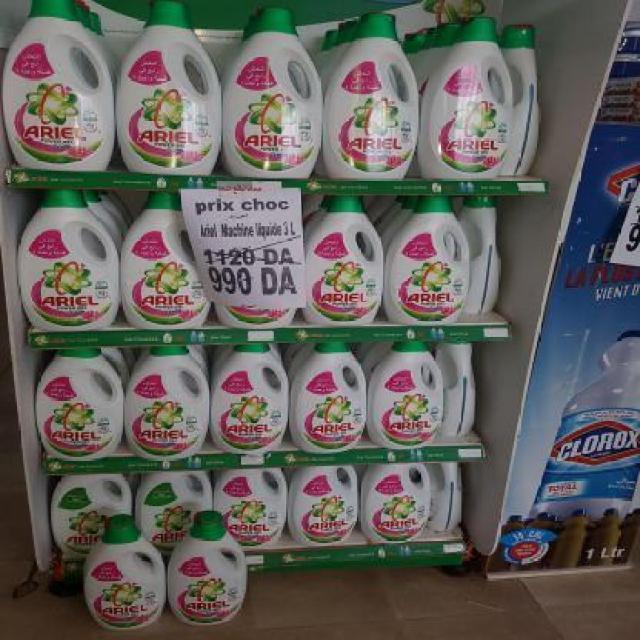Detergent: (119, 0, 225, 174), (226, 6, 323, 178), (322, 12, 422, 176), (417, 12, 517, 176), (13, 188, 118, 330), (117, 188, 203, 330), (296, 191, 387, 324), (37, 339, 124, 462), (78, 516, 174, 627), (390, 191, 470, 324), (164, 512, 250, 623), (125, 346, 208, 457), (208, 343, 290, 454), (289, 340, 369, 451), (369, 342, 444, 453), (283, 460, 358, 544), (363, 456, 429, 542), (215, 468, 284, 548)
